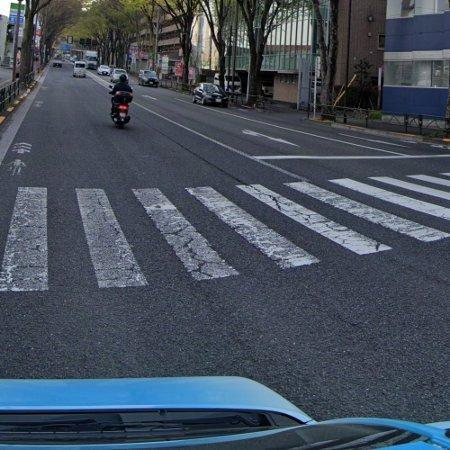crosswalks: (7, 173, 450, 292)
